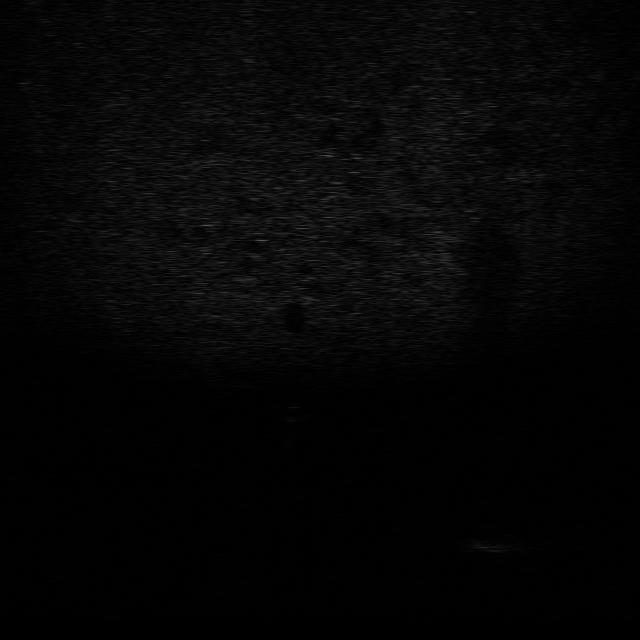ball: (276, 398, 315, 424)
metal bucket: (458, 534, 534, 558)
tyre: (478, 510, 540, 543)
